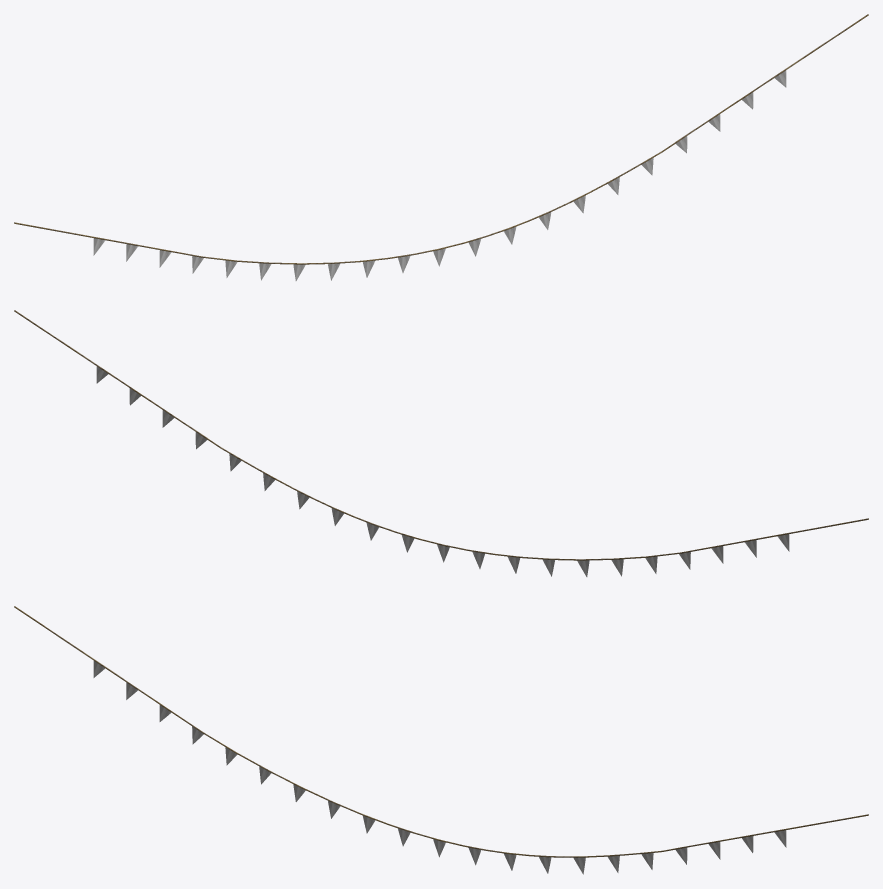
File: Banner_SmallTriangles_Long.fbx
3 renders of one model, top to bottom at view 1: azimuth 30°, elevation 25°; view 2: azimuth 150°, elevation 25°; view 3: azimuth 330°, elevation 25°, orthographic.
Parts seen in each view (by area): view 1: Banner_SmallTriangles_Long; view 2: Banner_SmallTriangles_Long; view 3: Banner_SmallTriangles_Long.
Boxes of the visible parts, x1=… form: Banner_SmallTriangles_Long: x1=14, y1=14, x2=868, y2=280; Banner_SmallTriangles_Long: x1=14, y1=310, x2=868, y2=576; Banner_SmallTriangles_Long: x1=14, y1=606, x2=868, y2=874.
Size of the model in its own units: 2767 by 458 by 3.89.
